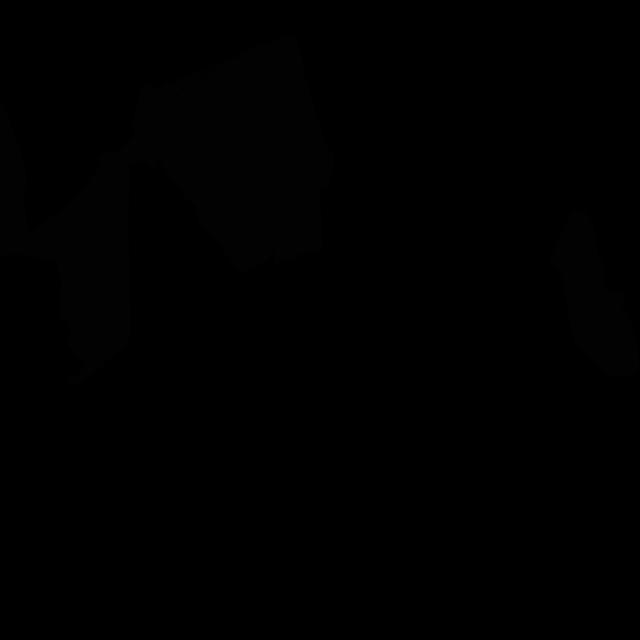cardboard: (29, 125, 169, 387), (149, 67, 306, 274), (131, 35, 335, 192), (548, 210, 640, 377), (260, 155, 323, 265), (0, 102, 37, 258)
